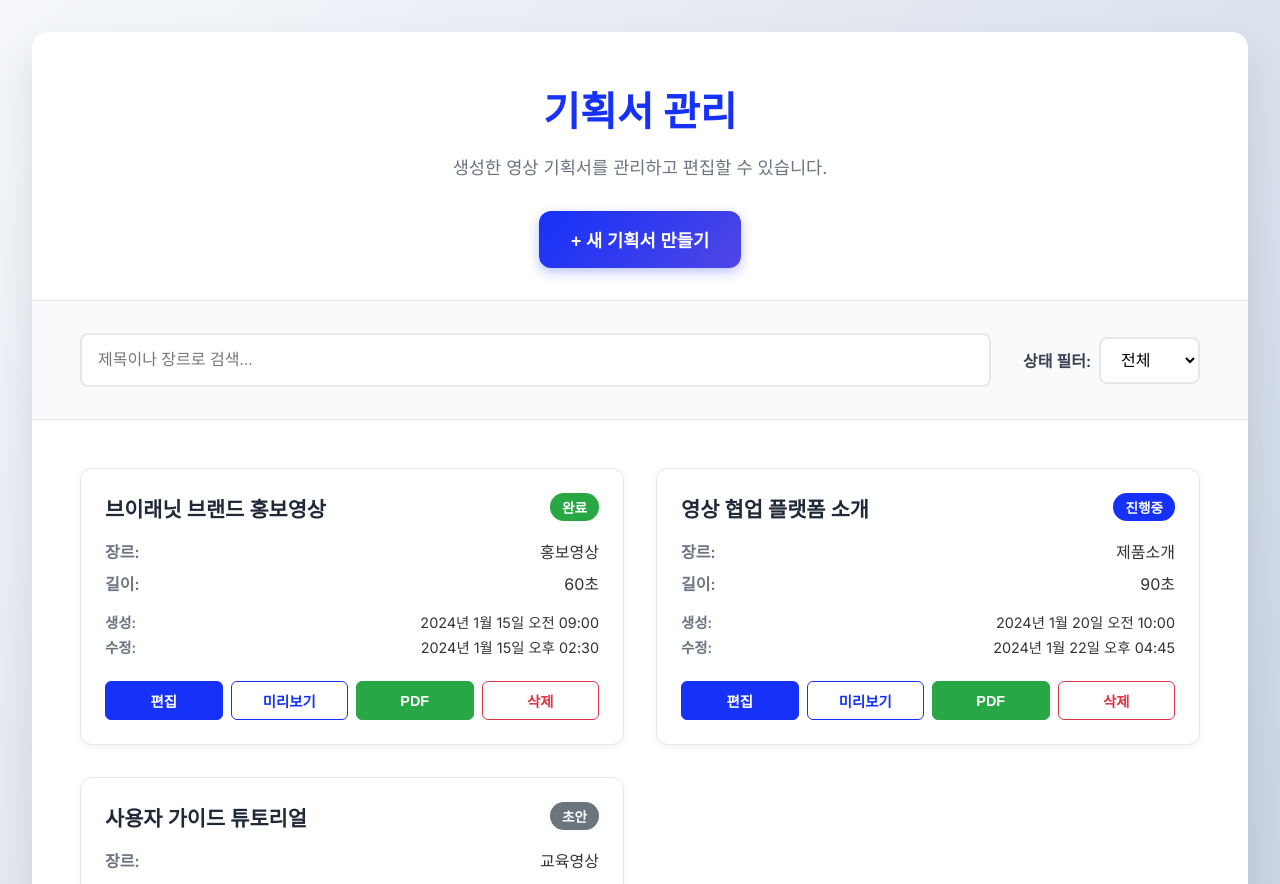
Test: HistoryPage › 액션 버튼 기능 › 삭제 버튼 클릭 시 확인 후 기획서가 제거된다
Click the 1st button "삭제".
click(540, 700)  # box [482,681,599,720]
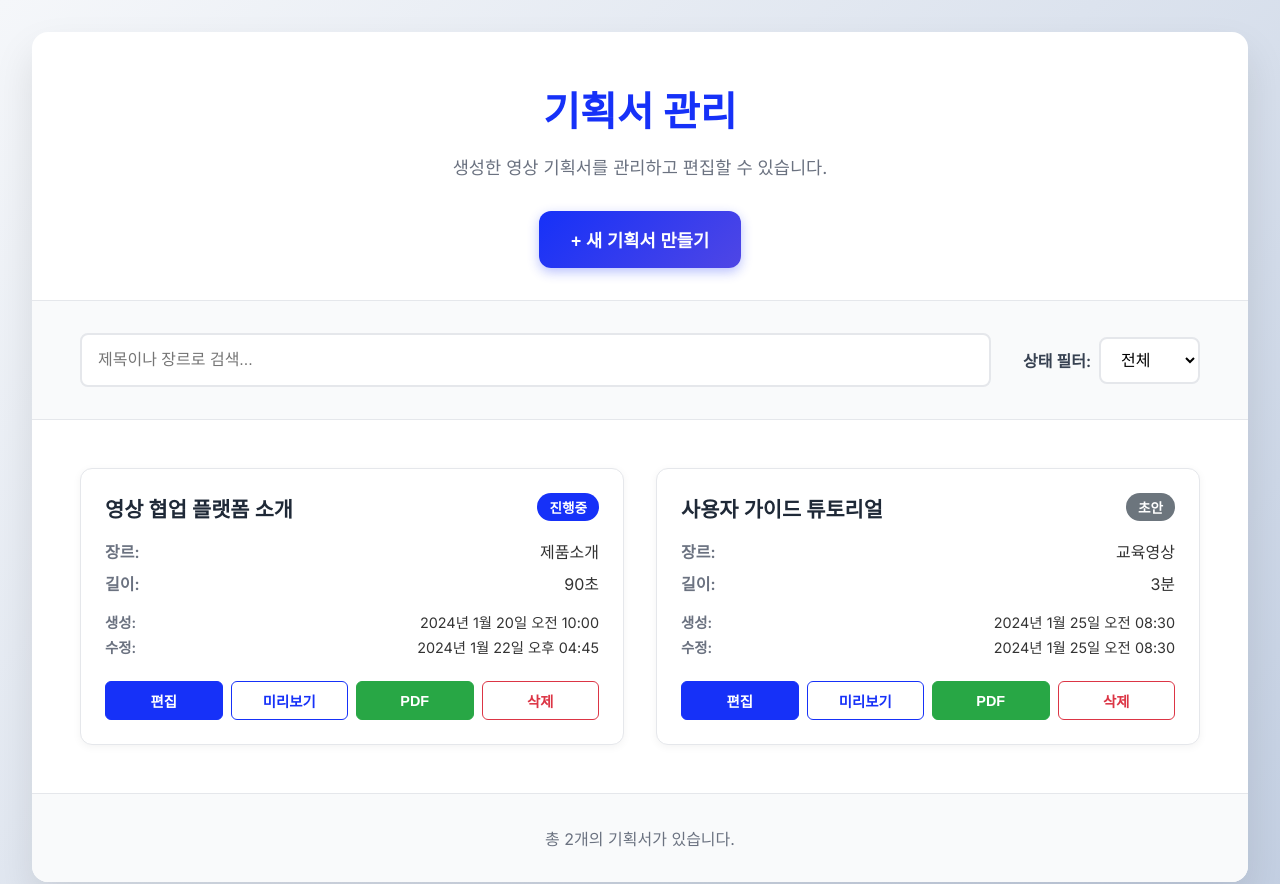
Now the heading "브이래닛 브랜드 홍보영상" is gone
